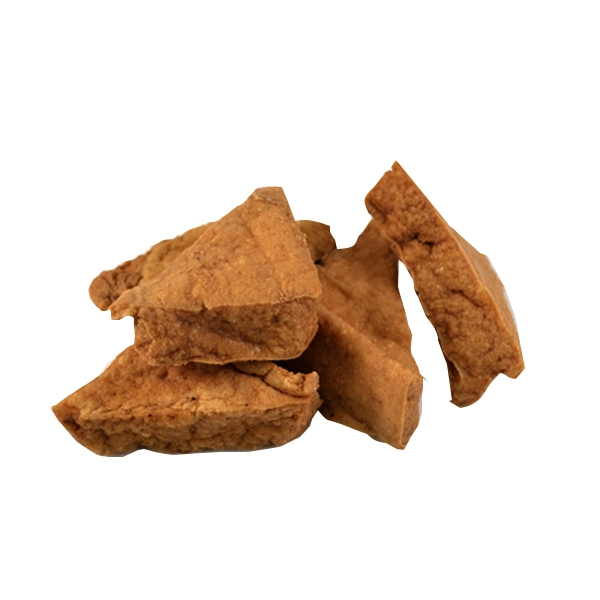Tahu: (35, 316, 289, 472), (101, 207, 312, 367), (381, 146, 518, 378), (297, 304, 435, 433)
